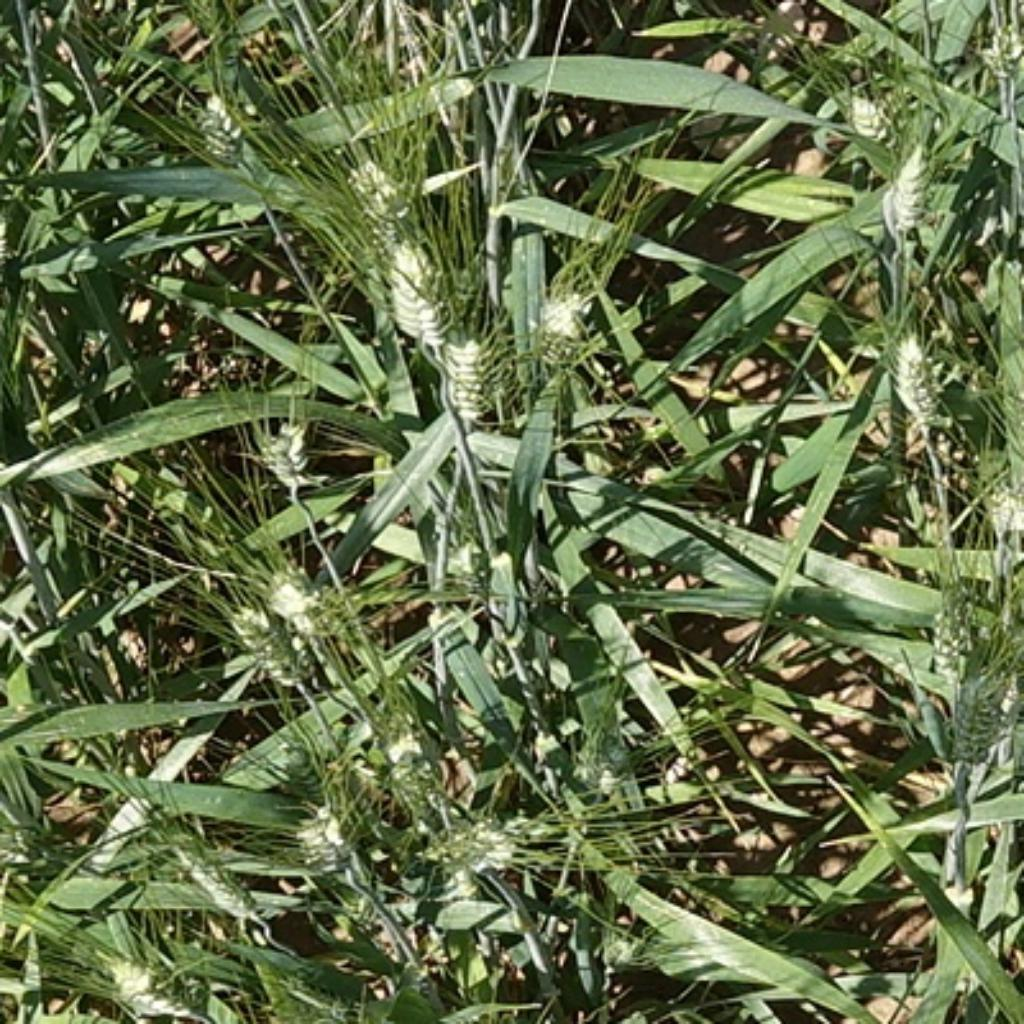0-0: (87, 929, 227, 1024), (358, 227, 471, 340), (409, 798, 540, 890), (552, 716, 650, 834), (325, 140, 427, 248), (199, 599, 307, 701), (939, 652, 1024, 780), (911, 565, 993, 680), (517, 268, 604, 371), (261, 547, 363, 629), (268, 788, 368, 870), (424, 312, 504, 414), (885, 138, 967, 232), (163, 845, 260, 923), (829, 66, 913, 156), (875, 320, 949, 422), (179, 71, 261, 158), (366, 711, 434, 789), (256, 412, 317, 483), (966, 16, 1024, 83), (984, 488, 1023, 531)
